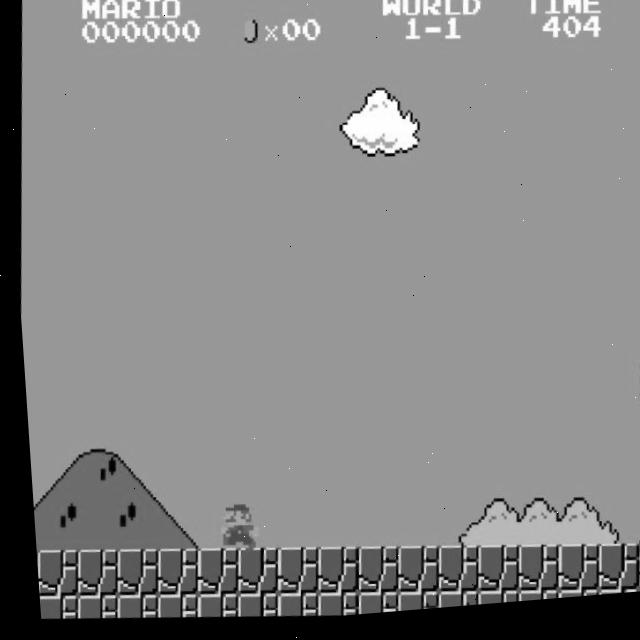11- little_mario: (205, 502, 253, 557)
13- mystery_block: (631, 369, 640, 417)
17- undestructible_block: (66, 547, 113, 599), (106, 547, 153, 599), (226, 548, 273, 600), (306, 548, 353, 600), (346, 549, 393, 601), (386, 549, 433, 601), (426, 549, 473, 601), (466, 550, 513, 602), (586, 550, 633, 602), (266, 549, 313, 600), (146, 548, 192, 600), (186, 548, 232, 600), (547, 550, 593, 602), (507, 550, 553, 601), (29, 546, 72, 598), (66, 593, 111, 622), (106, 593, 151, 622), (226, 594, 271, 623), (147, 593, 191, 622), (187, 593, 231, 622), (267, 594, 311, 623), (306, 594, 351, 622), (346, 594, 391, 620), (31, 593, 71, 621), (386, 595, 431, 617), (427, 595, 471, 615), (467, 594, 511, 612), (507, 595, 551, 610), (628, 552, 640, 601), (547, 595, 591, 607), (587, 596, 631, 604)
